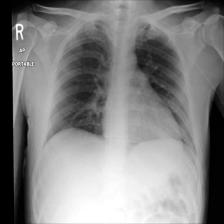normal: (38, 13, 200, 167)
